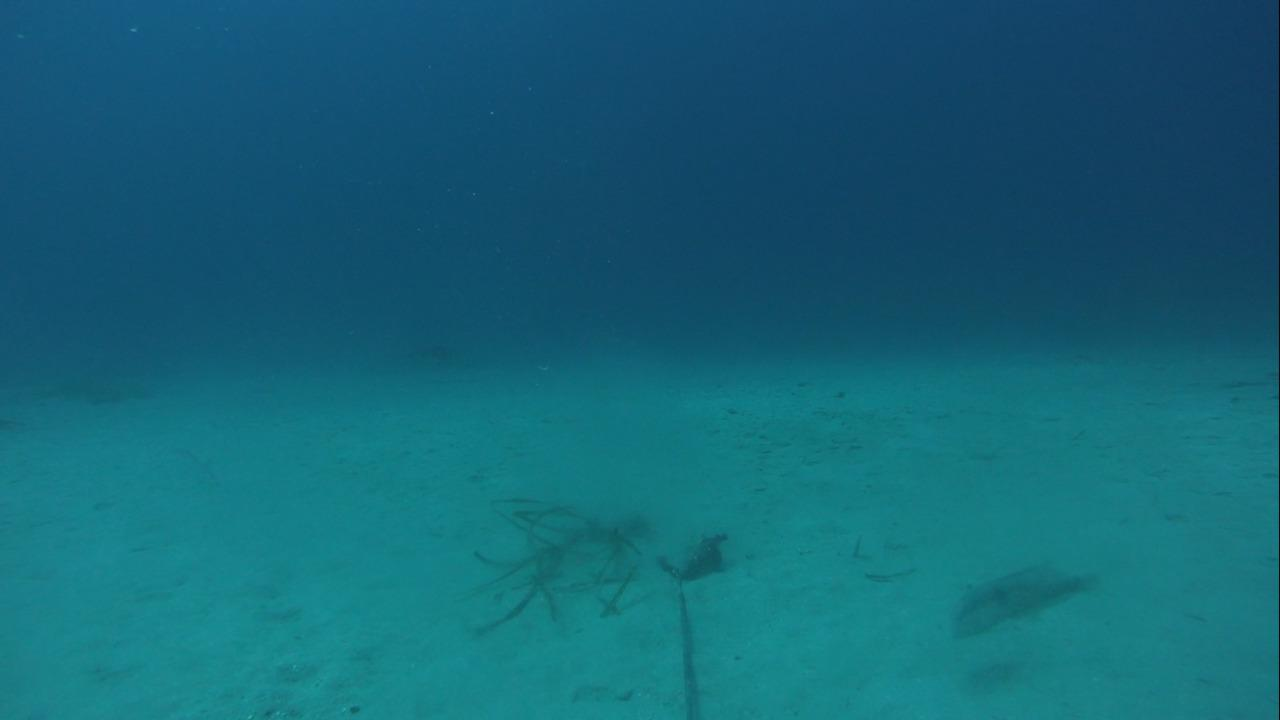raor: (937, 553, 1103, 645)
